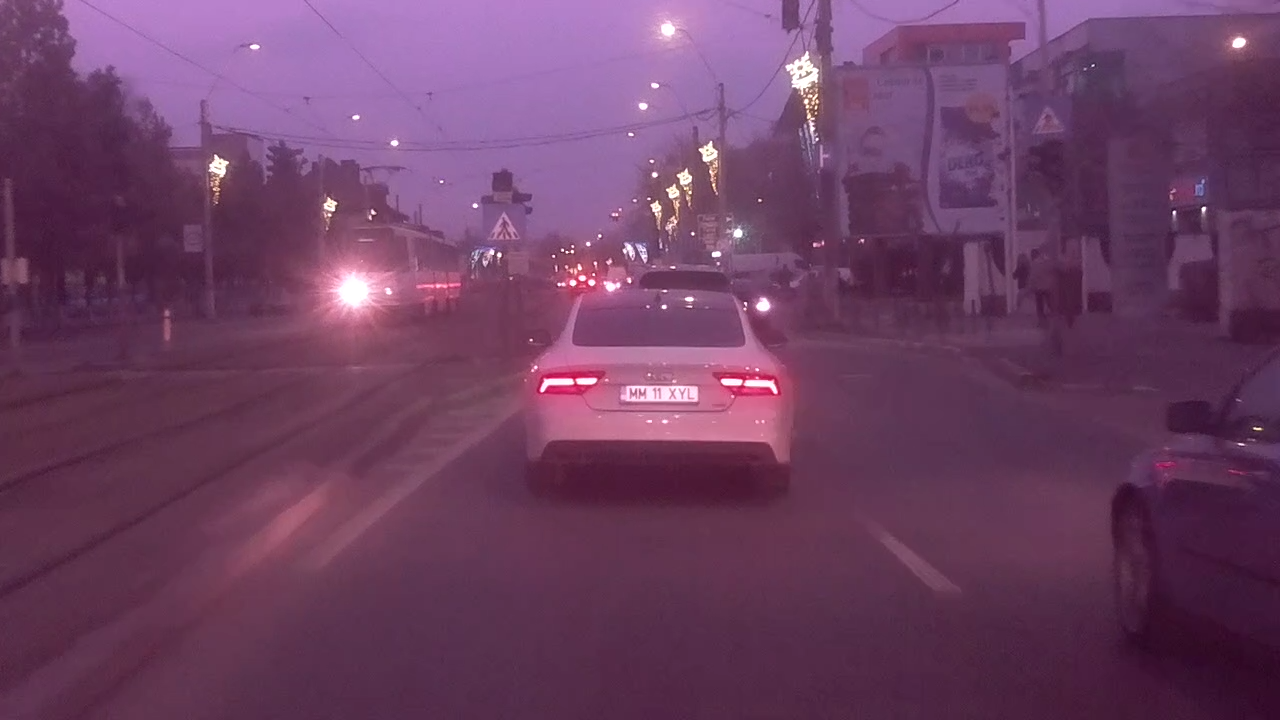license-plate: (615, 382, 703, 407)
